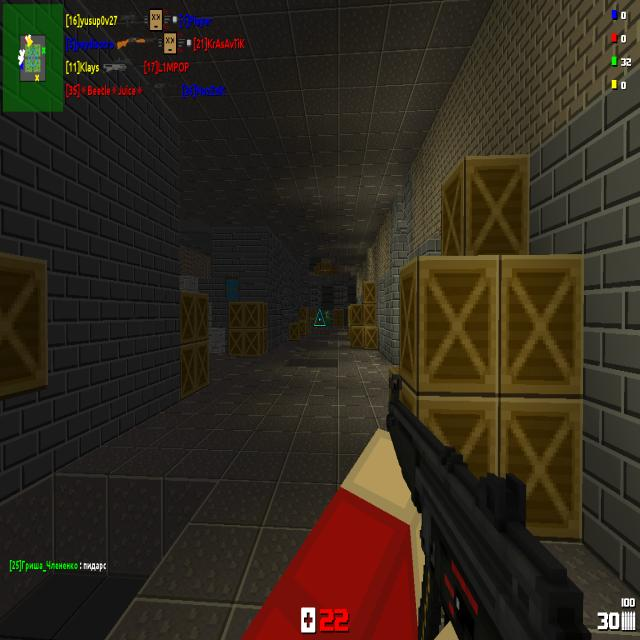enemy: (325, 309, 330, 325)
